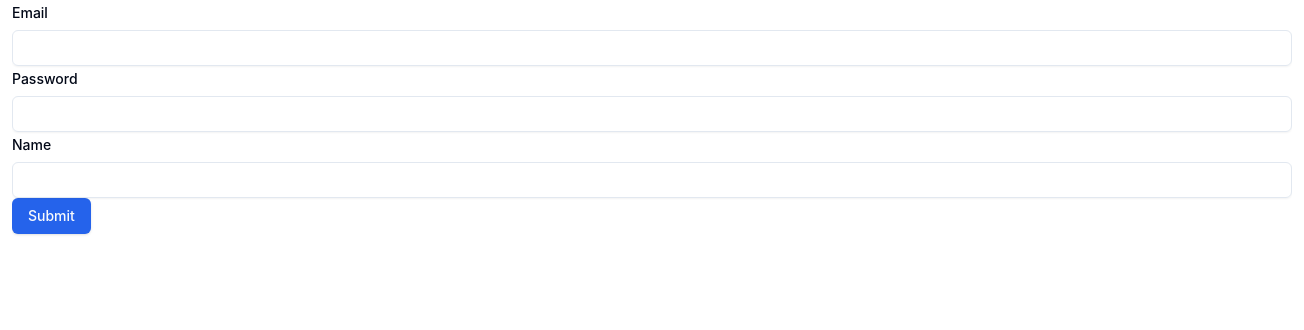
FormProvider › should show errors after submit attempt
Click the button with test id "submit-button" at (51, 216), box [12,198,91,234]
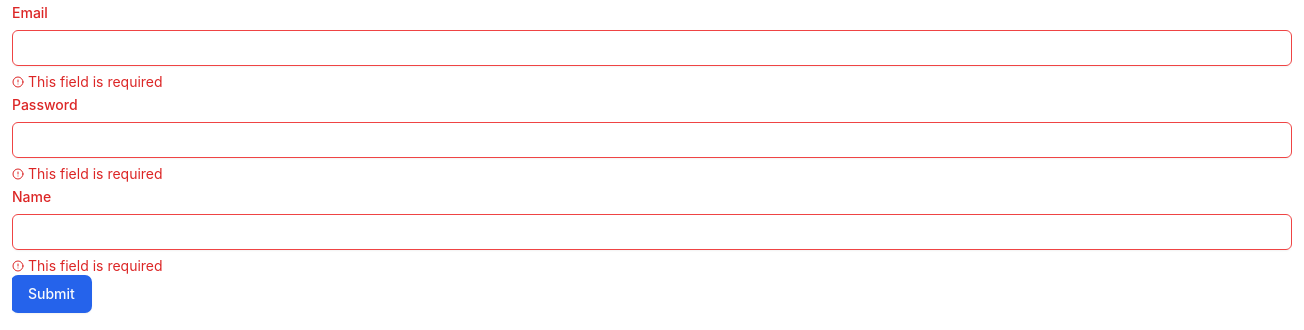
Expected: the message with test id "error-email" is shown, [12,73,163,90]
Expected: the message with test id "error-password" is shown, [12,165,163,182]
Expected: the message with test id "error-name" is shown, [12,257,163,274]
